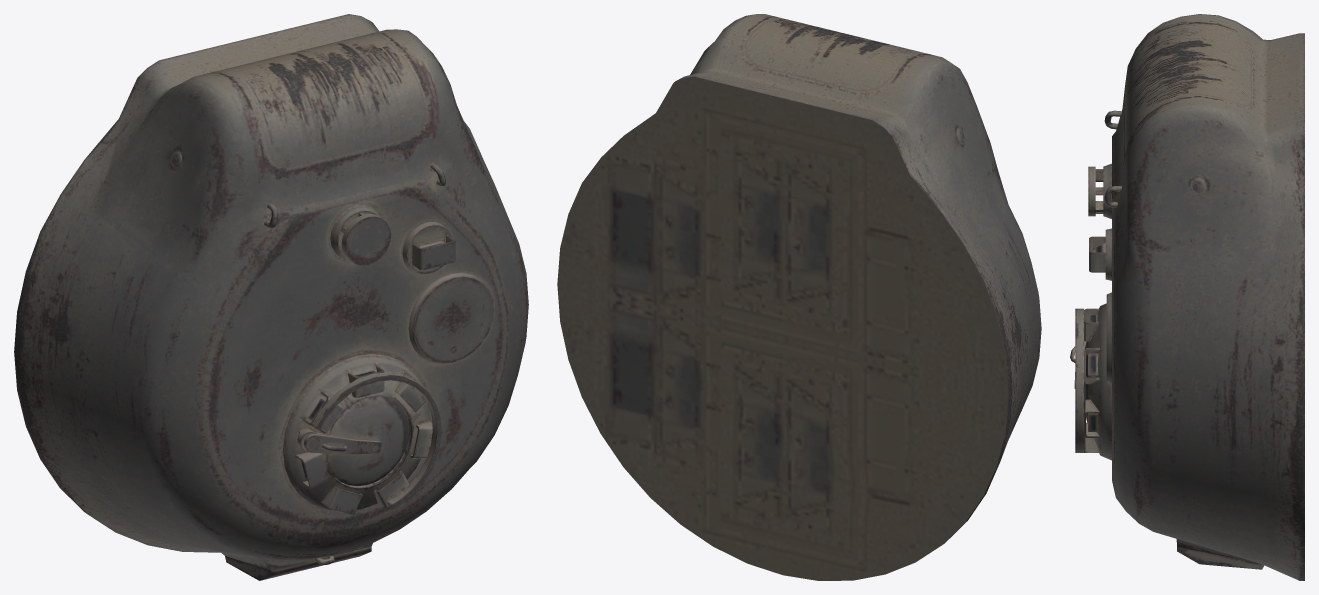
Rendered from Turret_01.glb.
3 views of the same model, side by side, from view 1: azimuth 30°, elevation 25°; view 2: azimuth 150°, elevation 25°; view 3: azimuth 270°, elevation 25° (orthographic). The views are drawn at different scales.
Visible parts, largest first — view 1: set_0_group_0; view 2: set_0_group_0; view 3: set_0_group_0.
Part boxes in pixels (x1,y1,x2,y2): set_0_group_0: [14, 14, 528, 580]; set_0_group_0: [557, 14, 1041, 580]; set_0_group_0: [1070, 14, 1304, 580].
Size of the model in its own units: 2.95 by 3.1 by 1.33.
Materials: 1 (1 with a texture image).
